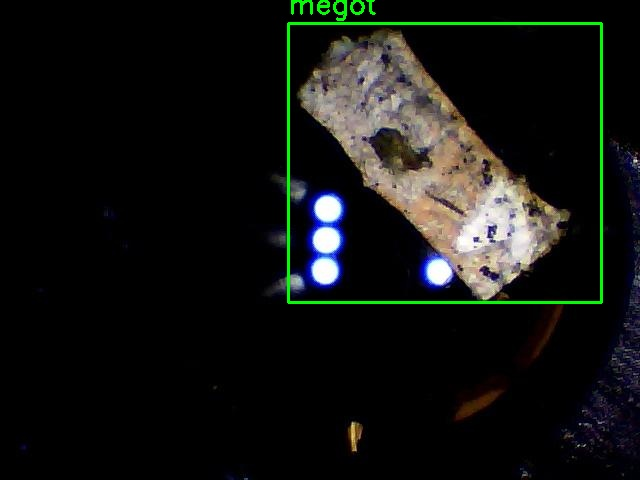megot: (288, 23, 601, 302)
